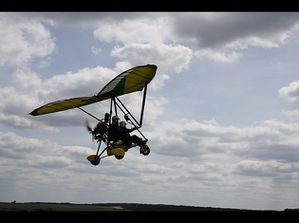Aeronef_de_loisir: (25, 60, 162, 171)
